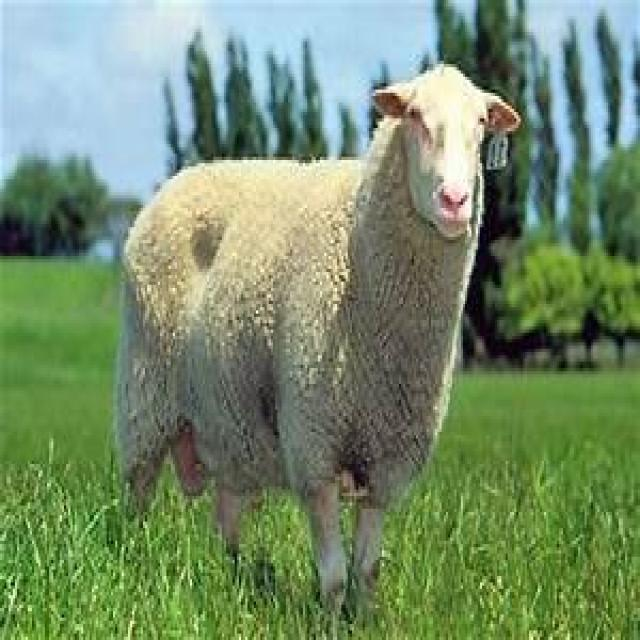sheep: (111, 58, 520, 620)
